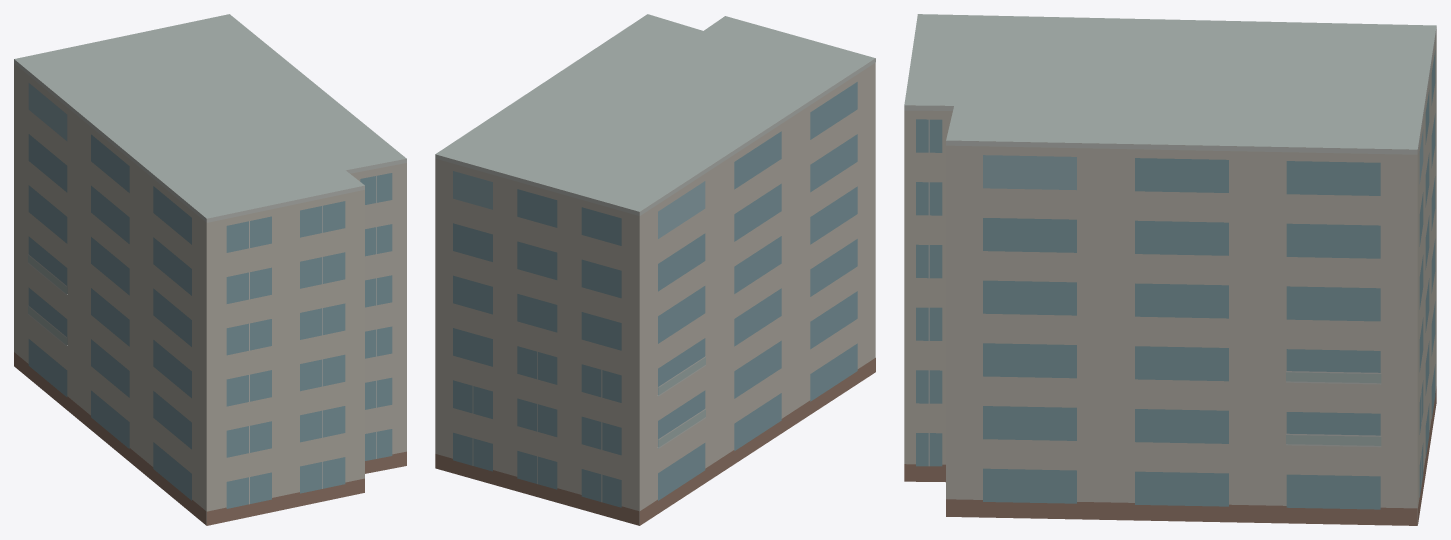
File: survey-upis-32860283.glb
The picture shows the model from 3 angles, left to right: view 1: azimuth 30°, elevation 25°; view 2: azimuth 150°, elevation 25°; view 3: azimuth 270°, elevation 25°; orthographic projection. The views are drawn at different scales.
Visible parts, largest first — view 1: survey-upis-32860283.tmp; view 2: survey-upis-32860283.tmp; view 3: survey-upis-32860283.tmp.
Part boxes in pixels (bbox=[...]): survey-upis-32860283.tmp: bbox=[14, 14, 406, 525]; survey-upis-32860283.tmp: bbox=[435, 14, 875, 525]; survey-upis-32860283.tmp: bbox=[904, 14, 1436, 525].
Bounding box in the file's own units: 13.77 × 17.8 × 22.84.
